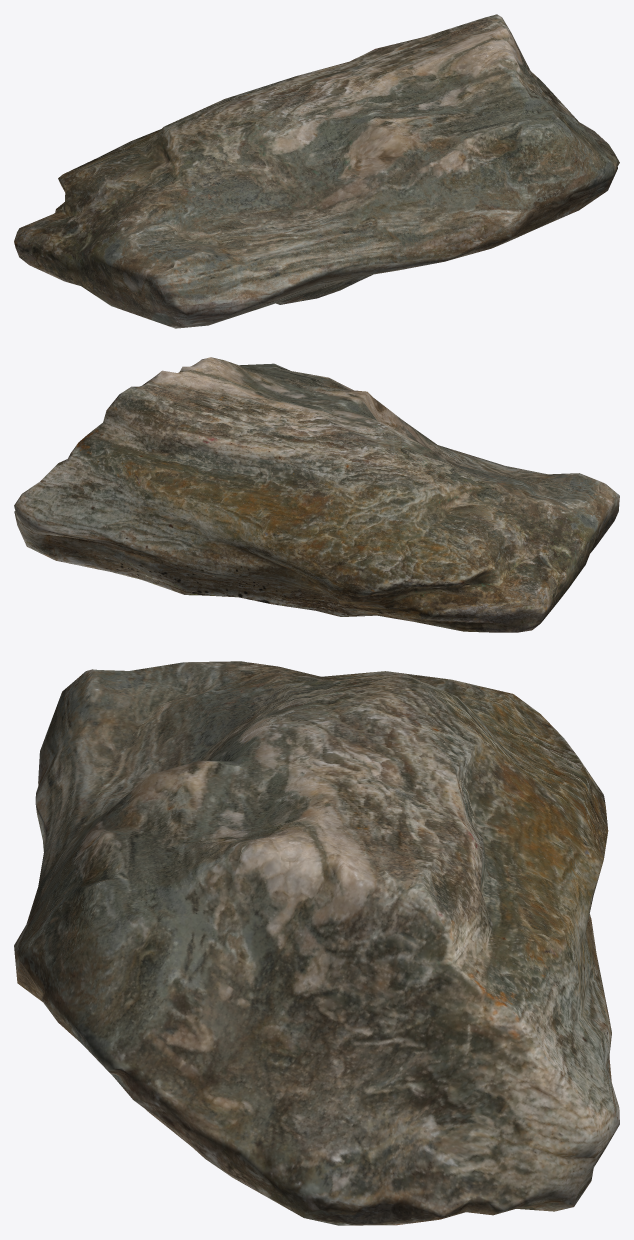
Rendered from vizvdho_tier_2.gltf.
3 renders of one model, top to bottom at view 1: azimuth 30°, elevation 25°; view 2: azimuth 150°, elevation 25°; view 3: azimuth 270°, elevation 25°, orthographic. The views are drawn at different scales.
Visible parts, largest first — view 1: vizvdho_LOD0_TIER2_000; view 2: vizvdho_LOD0_TIER2_000; view 3: vizvdho_LOD0_TIER2_000.
Boxes of the visible parts, left/top/right/bottom form: vizvdho_LOD0_TIER2_000: left=14, top=14, right=619, bottom=328; vizvdho_LOD0_TIER2_000: left=14, top=357, right=619, bottom=632; vizvdho_LOD0_TIER2_000: left=14, top=661, right=619, bottom=1225.
Size of the model in its own units: 0.2462 by 0.0794 by 0.1368.
Materials: 1 (1 with a texture image).
